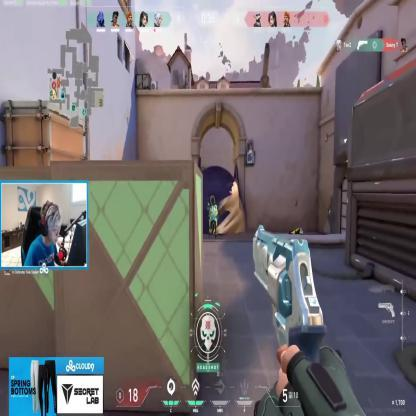enemy: (207, 194, 218, 241)
enemy_head: (211, 198, 214, 206)
